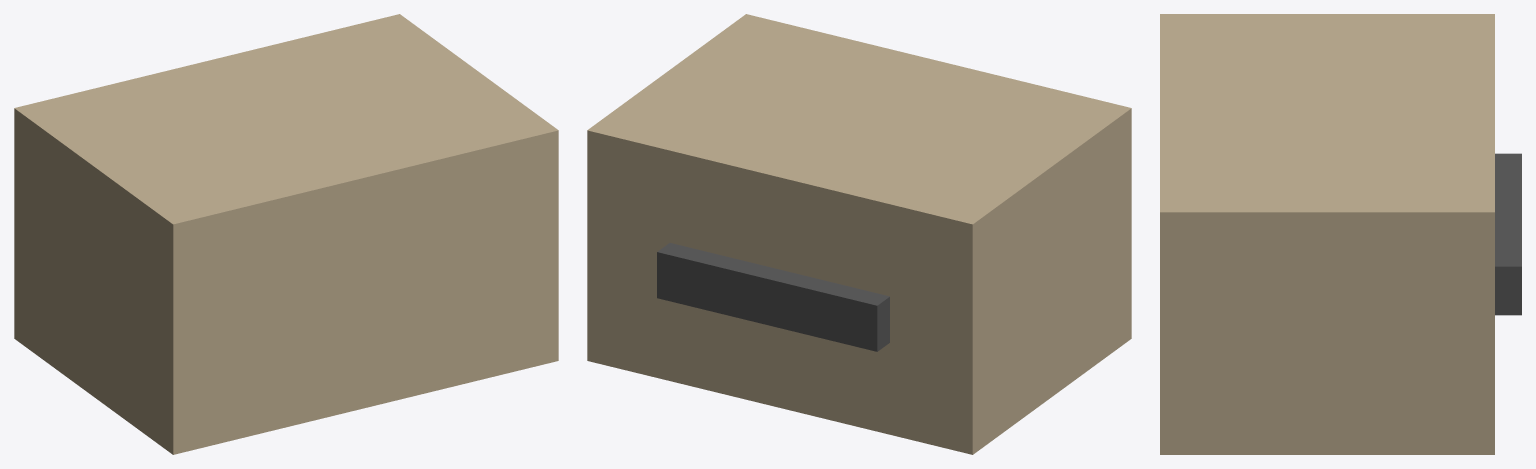
Rendered from handoff_bag.glb.
3 renders of one model, left to right at view 1: azimuth 30°, elevation 25°; view 2: azimuth 150°, elevation 25°; view 3: azimuth 270°, elevation 25°, orthographic. The views are drawn at different scales.
Visible parts, largest first — view 1: bag; view 2: bag, handle; view 3: bag, handle.
Part boxes in pixels (x1,y1,x2,y2): bag: (14,14,558,454); bag: (587,14,1131,454); handle: (657,243,889,351); bag: (1160,14,1494,454); handle: (1495,153,1521,315).
Size of the model in its own units: 0.7002 by 0.3999 by 0.54.
